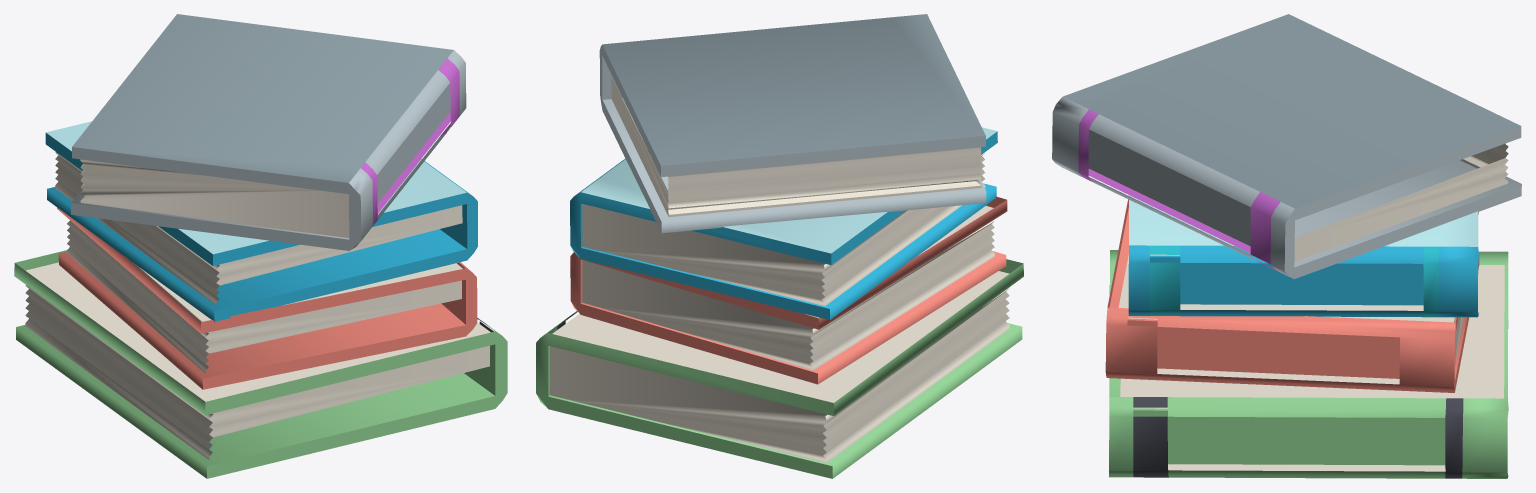
File: book_model.glb
3 renders of one model, left to right at view 1: azimuth 30°, elevation 25°; view 2: azimuth 150°, elevation 25°; view 3: azimuth 270°, elevation 25°, orthographic. The views are drawn at different scales.
Parts seen in each view (by area): view 1: books; view 2: books; view 3: books.
Boxes of the visible parts, box(x1,y1,x2,y2) form: books: box(14, 14, 507, 478); books: box(536, 14, 1023, 478); books: box(1052, 14, 1521, 478).
Size of the model in its own units: 0.302 by 0.209 by 0.3003.
1 material, 1 textured.
